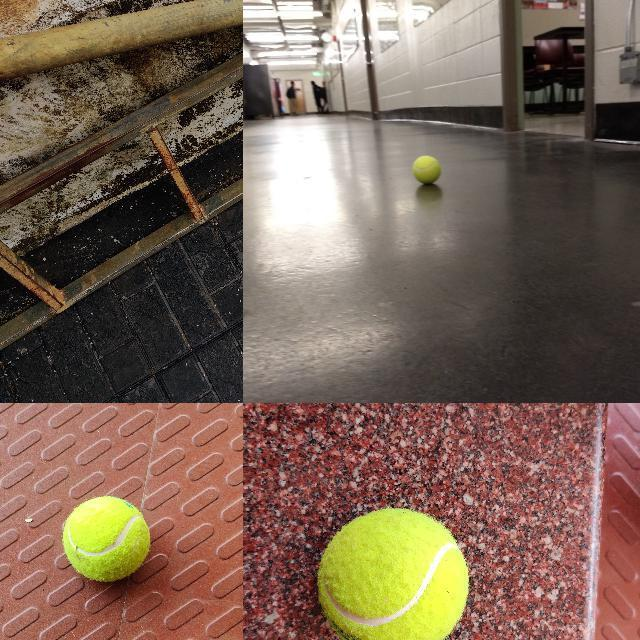tennis-ball: (317, 507, 470, 639), (63, 497, 149, 582), (412, 155, 441, 184)
